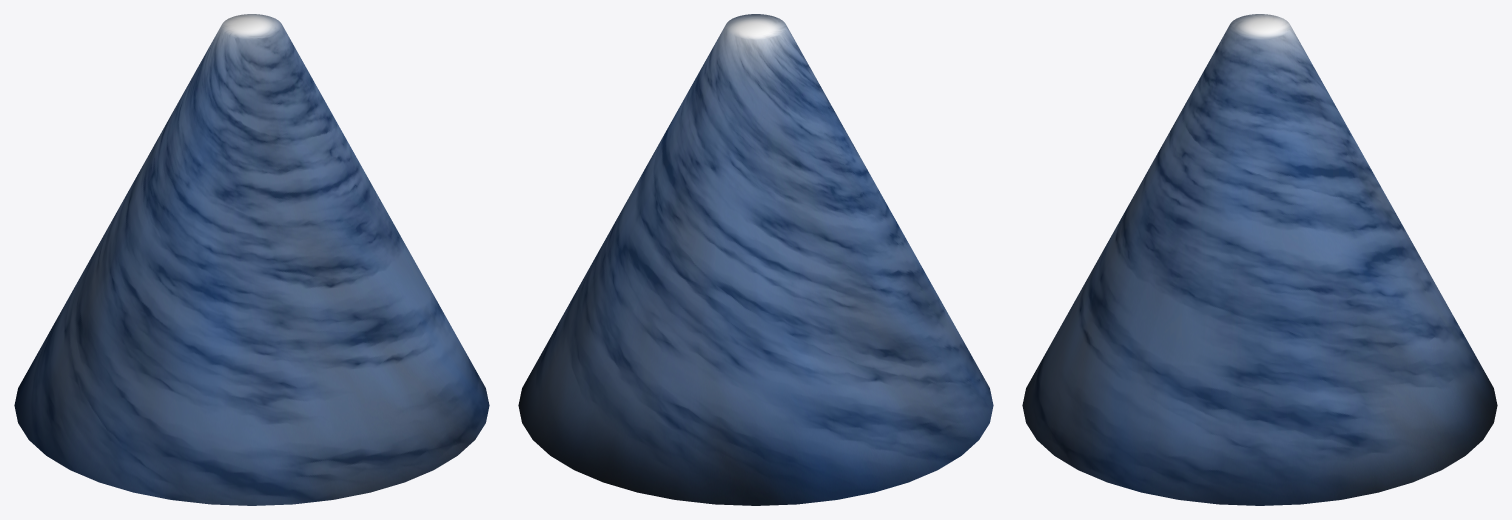
Rendered from outer layer v3.fbx.
3 views of the same model, side by side, from view 1: azimuth 30°, elevation 25°; view 2: azimuth 150°, elevation 25°; view 3: azimuth 270°, elevation 25° (orthographic).
Visible parts, largest first — view 1: Cylinder; view 2: Cylinder; view 3: Cylinder.
Boxes of the visible parts, <box> form: Cylinder: <box>14,14,489,505</box>; Cylinder: <box>518,14,993,505</box>; Cylinder: <box>1022,14,1497,505</box>.
Bounding box in the file's own units: 531 × 467 × 531.
1 material, 1 textured.
